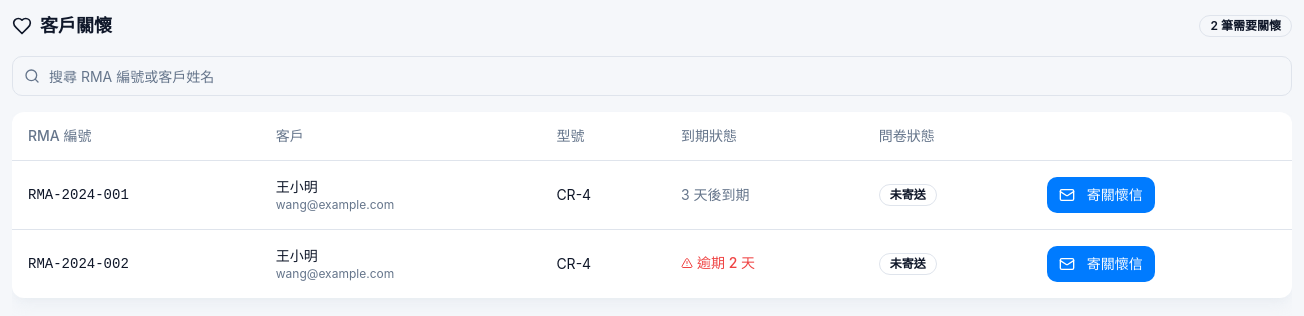
FollowUpTab - 搜尋過濾 › 清空搜尋框：恢復顯示全部
Expected: the text "RMA-2024-001" is shown, [12,160,260,229]
In the field with placeholder "搜尋 RMA 編號或客戶姓名": (652, 76) [12,56,1292,96], type "RMA-2024-002"
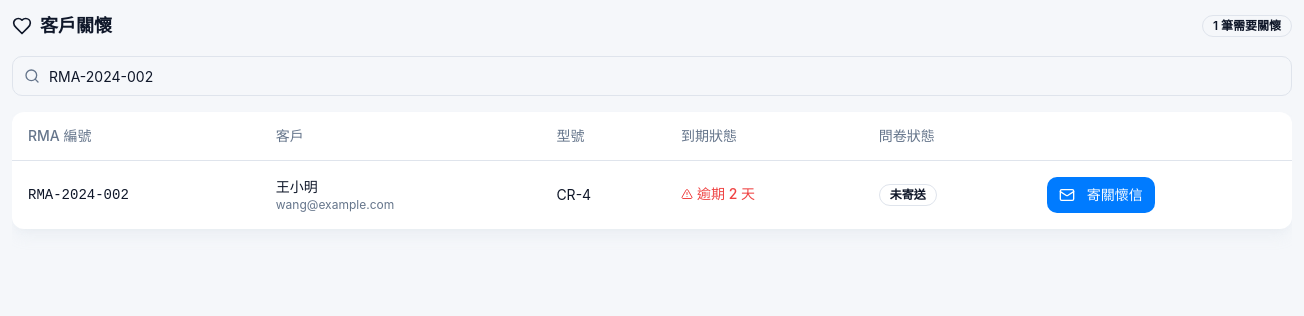
Clear the field with placeholder "搜尋 RMA 編號或客戶姓名": (652, 76) [12,56,1292,96]
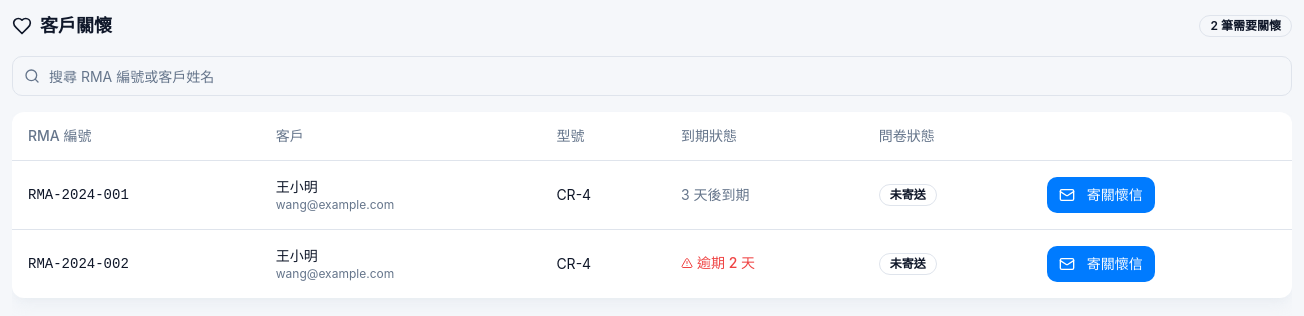
Expected: the text "RMA-2024-002" is shown, [12,229,260,298]
Now the text "RMA-2024-001" is shown, box [12,160,260,229]
